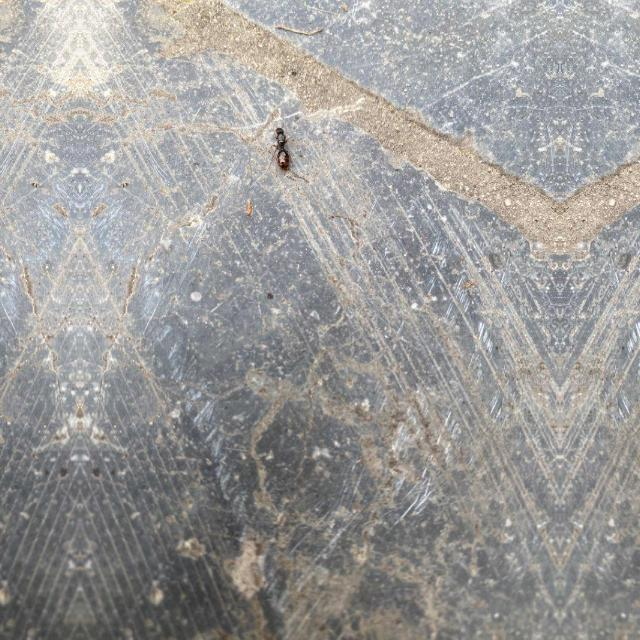Tetramorium: (262, 116, 300, 176)
